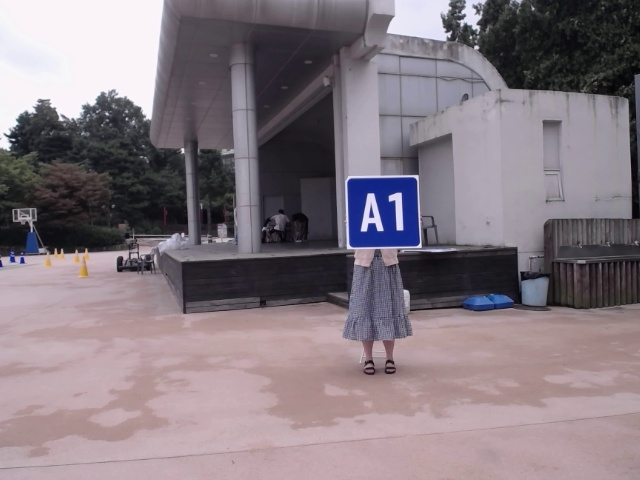delivery_a1: (345, 175, 422, 249)
